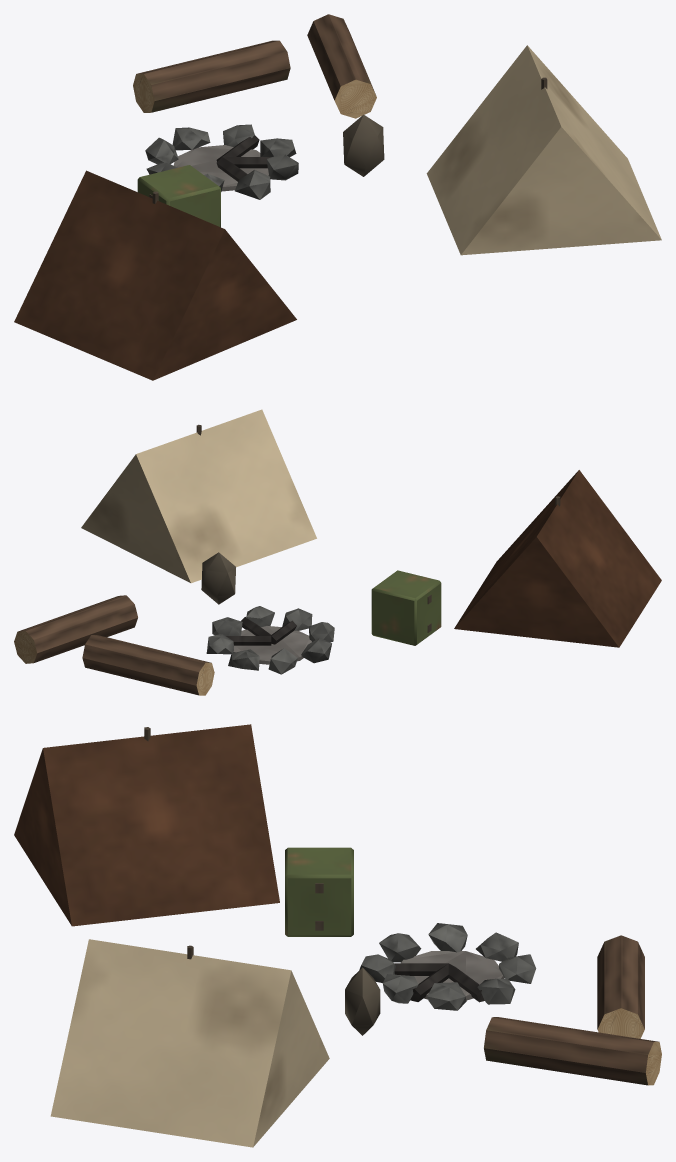
The model's file is SM_POI_Campsite.fbx.
3 renders of one model, top to bottom at view 1: azimuth 30°, elevation 25°; view 2: azimuth 150°, elevation 25°; view 3: azimuth 270°, elevation 25°, orthographic. The views are drawn at different scales.
Parts seen in each view (by area): view 1: SM_POI_Campsite; view 2: SM_POI_Campsite; view 3: SM_POI_Campsite.
Boxes of the visible parts, x1,y1,x2,y2 form: SM_POI_Campsite: (14,14,661,380); SM_POI_Campsite: (14,409,661,695); SM_POI_Campsite: (14,724,661,1147).
Bounding box in the file's own units: 18.46 × 3.71 × 15.03.
Materials: 1 (1 with a texture image).
